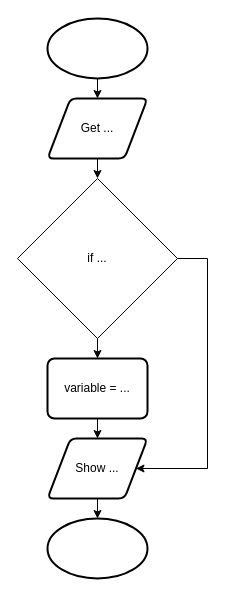
Some shapes in this 233 by 596 pixel diagram are drawn without their labels. The shapes that lost their labels are listed below. From the top down, each one's centre as x and y in pixels, then its label:
At (x=97, y=48): "Start".
At (x=97, y=548): "Stop".
